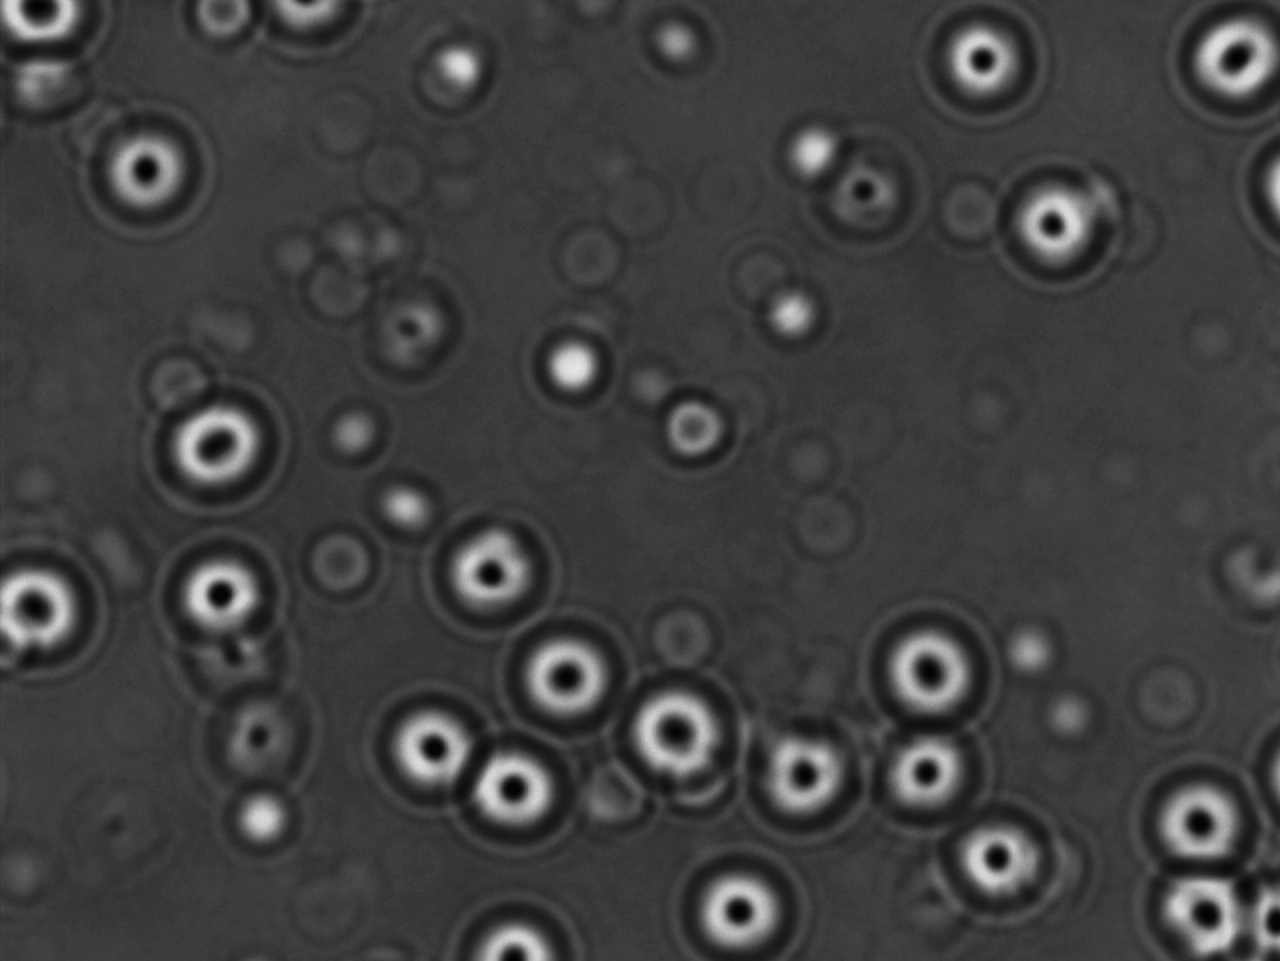depth:16: (856, 596, 999, 734), (148, 387, 292, 506), (991, 161, 1117, 290), (367, 689, 497, 815), (457, 733, 580, 858), (618, 671, 738, 799), (918, 3, 1047, 121), (427, 510, 550, 632), (748, 716, 871, 838), (945, 793, 1067, 916), (498, 612, 621, 732), (675, 843, 797, 961), (86, 110, 210, 225), (158, 535, 287, 646), (1140, 759, 1263, 872), (870, 721, 993, 832), (1172, 2, 1280, 120), (1136, 869, 1255, 960)
